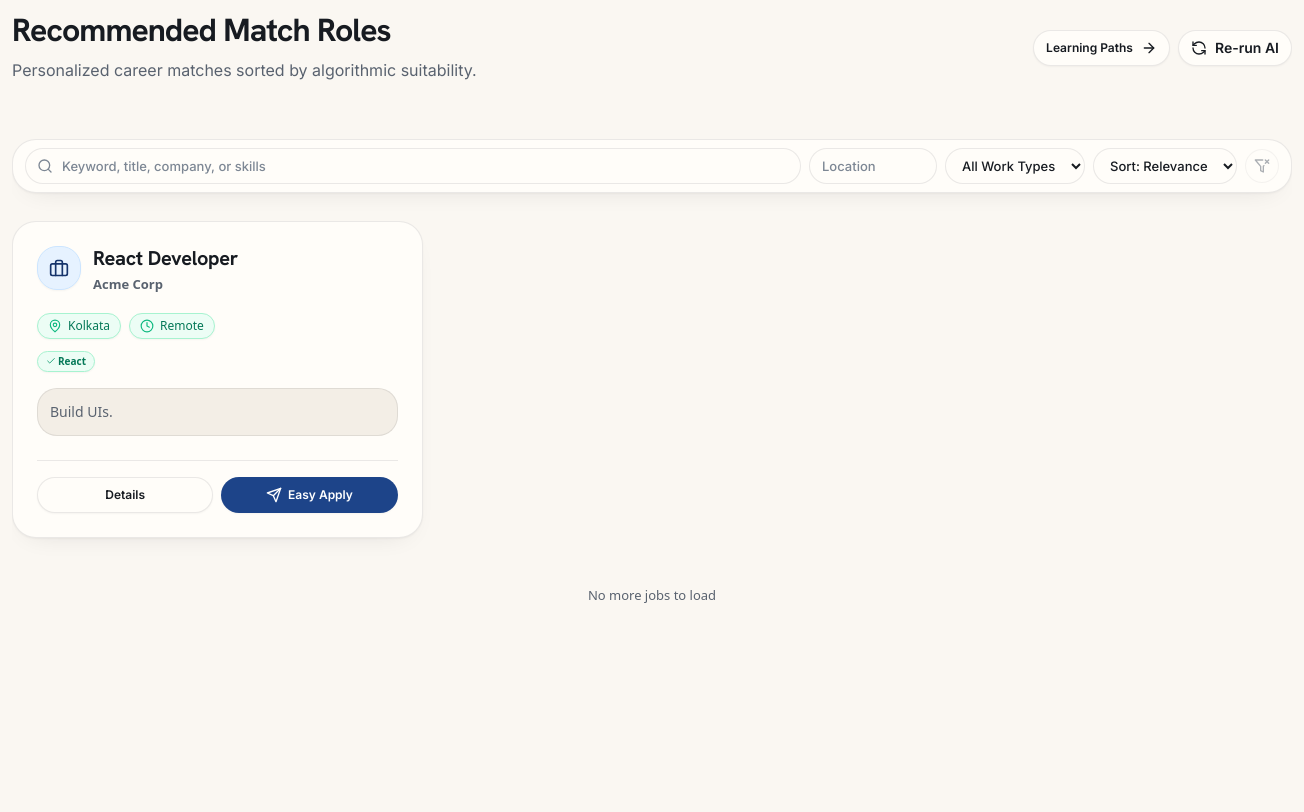
Test: JobsPage — job listing & application contract › applies to a job via POST /api/jobs/:id/apply with the correct body and marks it applied
This screenshot has width=1304, height=812.
Expected: the heading "React Developer" is shown, [93,245,238,271]
Click the button "Easy Apply". click: (309, 495)
box: [221,477,398,513]
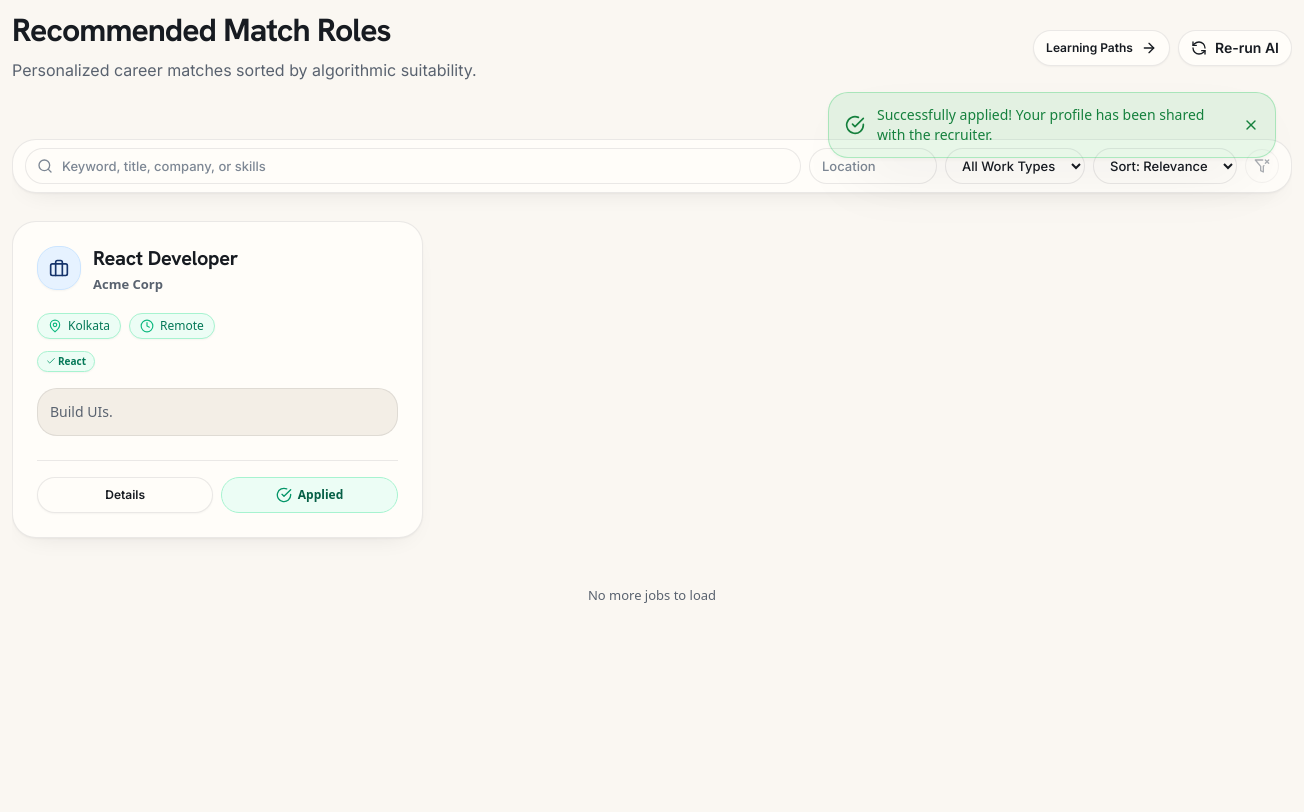
Expected: the button "Applied" is shown, [221,477,398,513]
